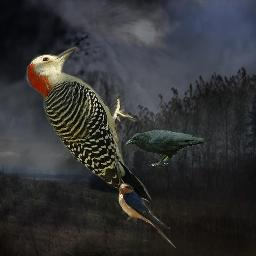Crow: (125, 130, 204, 167)
Swallow: (118, 183, 176, 248)
Woodpecker: (23, 47, 154, 218)
